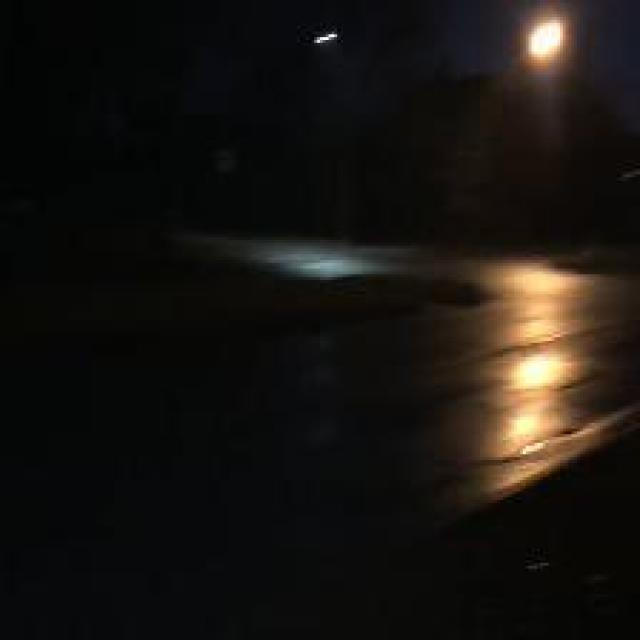other: (524, 255, 554, 458), (510, 10, 575, 74)
